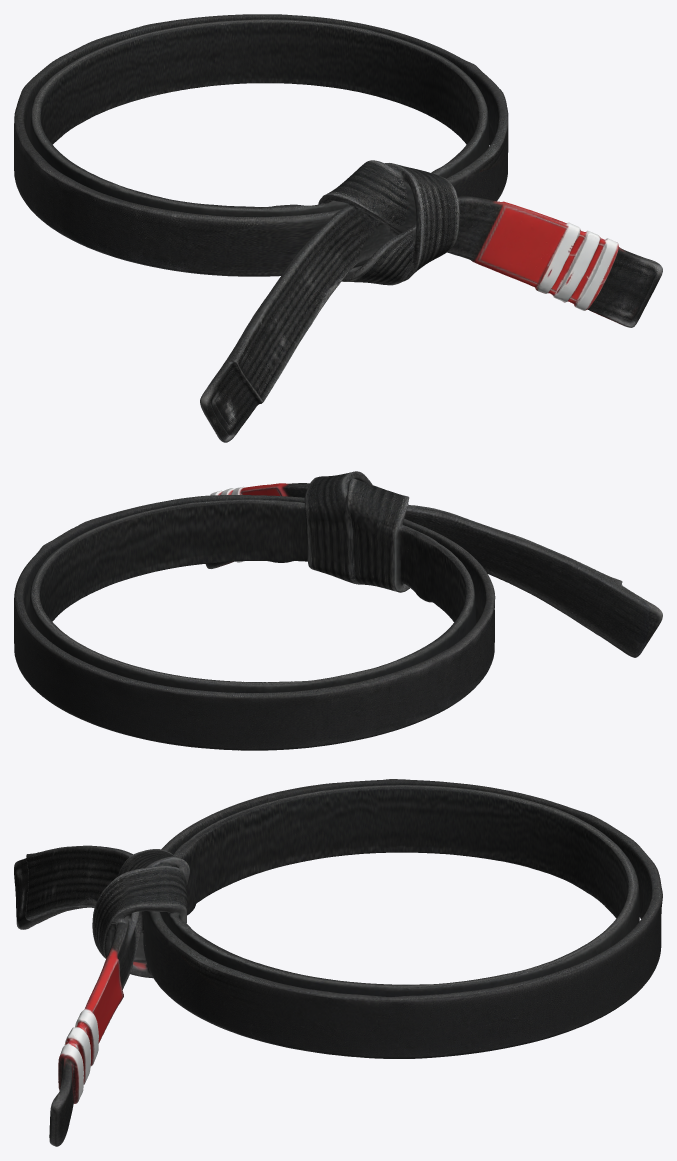
Rendered from Meshy_AI_Black_Belt_Resolve_1025162705_texture.fbx.
3 views of the same model, one above another, from view 1: azimuth 30°, elevation 25°; view 2: azimuth 150°, elevation 25°; view 3: azimuth 270°, elevation 25° (orthographic). The views are drawn at different scales.
Parts seen in each view (by area): view 1: Mesh_0; view 2: Mesh_0; view 3: Mesh_0.
Boxes of the visible parts, x1,y1,x2,y2 form: Mesh_0: (14,14,662,442); Mesh_0: (14,471,662,750); Mesh_0: (14,779,662,1146).
Size of the model in its own units: 171 by 59.95 by 190.
Materials: 1 (1 with a texture image).
